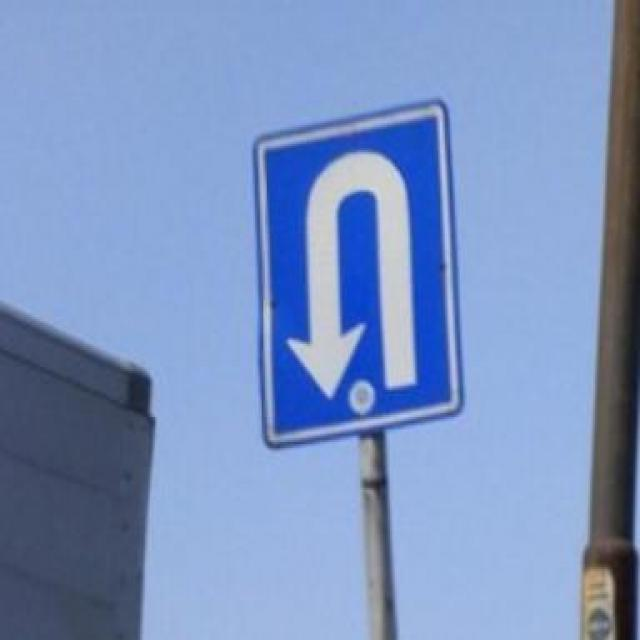U-turn: (255, 102, 453, 434)
